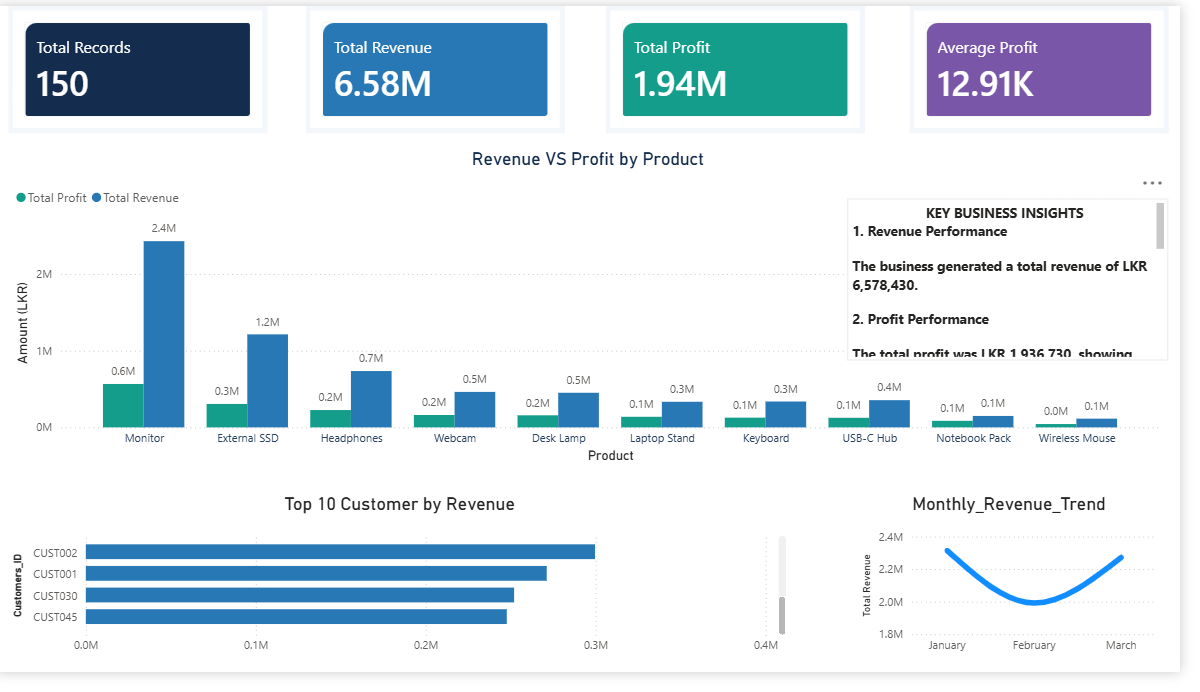

The page's visual inventory and layout, read from the dashboard file:
{"tool":"powerbi","page":{"name":"Page 1","canvas":[1280,720],"ordinal":0},"visuals":[{"type":"cardVisual","fields":{"Data":["Retail_Sales_Data csv.Total Records"]},"box":[13.3,0,279.9,137.5],"z":0},{"type":"cardVisual","fields":{"Data":["Retail_Sales_Data csv.Total Revenue"]},"box":[335.4,0,279.9,137.5],"z":1},{"type":"cardVisual","fields":{"Data":["Retail_Sales_Data csv.Total Profit"]},"box":[659.9,0,279.9,137.5],"z":2},{"type":"cardVisual","fields":{"Data":["Retail_Sales_Data csv.Average Profit"]},"box":[988.1,0,279.9,137.5],"z":3},{"type":"clusteredColumnChart","title":"Revenue VS Profit by Product","fields":{"Category":["Retail_Sales_Data csv.Product"],"Y":["Retail_Sales_Data csv.Total Profit","Retail_Sales_Data csv.Total Revenue"]},"box":[16,154,1247.5,345],"z":4},{"type":"clusteredBarChart","title":"Top 10 Customer by Revenue","fields":{"Category":["Retail_Sales_Data csv.Customer_ID"],"Y":["Retail_Sales_Data csv.Total Revenue"]},"box":[13.3,527.2,845.7,182.2],"z":5},{"type":"lineChart","title":"Monthly_Revenue_Trend","fields":{"Y":["Retail_Sales_Data csv.Total Revenue"],"Category":["Retail_Sales_Data csv.Order_Date.Variation.Date Hierarchy.Month"]},"box":[931.4,527.2,328.2,182.2],"z":6},{"type":"textbox","box":[920.5,207.5,347.5,176.1],"z":7}]}

Visuals, with their boxes in screenshot pixels (x1, y1, x2, y2), scaled from the page's 1280x720 canvas onto the 1200x692 screenshot:
cardVisual - Retail_Sales_Data csv.Total Records: 12, 0, 275, 132
cardVisual - Retail_Sales_Data csv.Total Revenue: 314, 0, 577, 132
cardVisual - Retail_Sales_Data csv.Total Profit: 619, 0, 881, 132
cardVisual - Retail_Sales_Data csv.Average Profit: 926, 0, 1189, 132
"Revenue VS Profit by Product" clusteredColumnChart: 15, 148, 1185, 480
"Top 10 Customer by Revenue" clusteredBarChart: 12, 507, 805, 682
"Monthly_Revenue_Trend" lineChart: 873, 507, 1181, 682
textbox: 863, 199, 1189, 369
